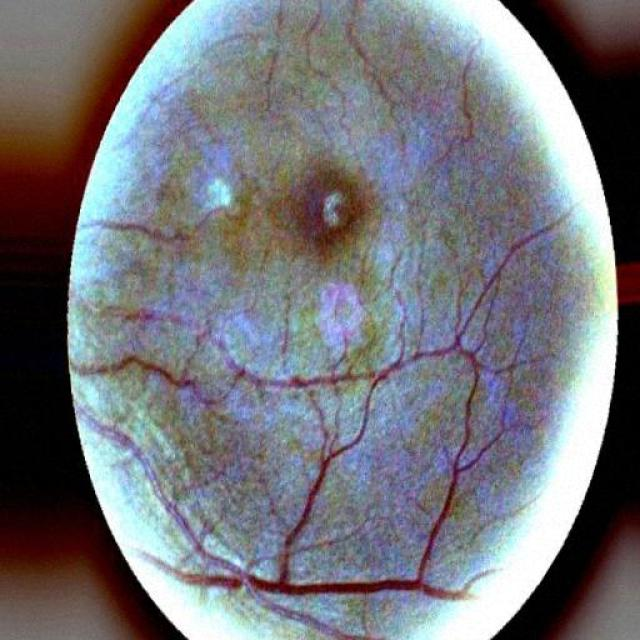Macula: (309, 177, 361, 242)
Nerves: (166, 562, 469, 604)
